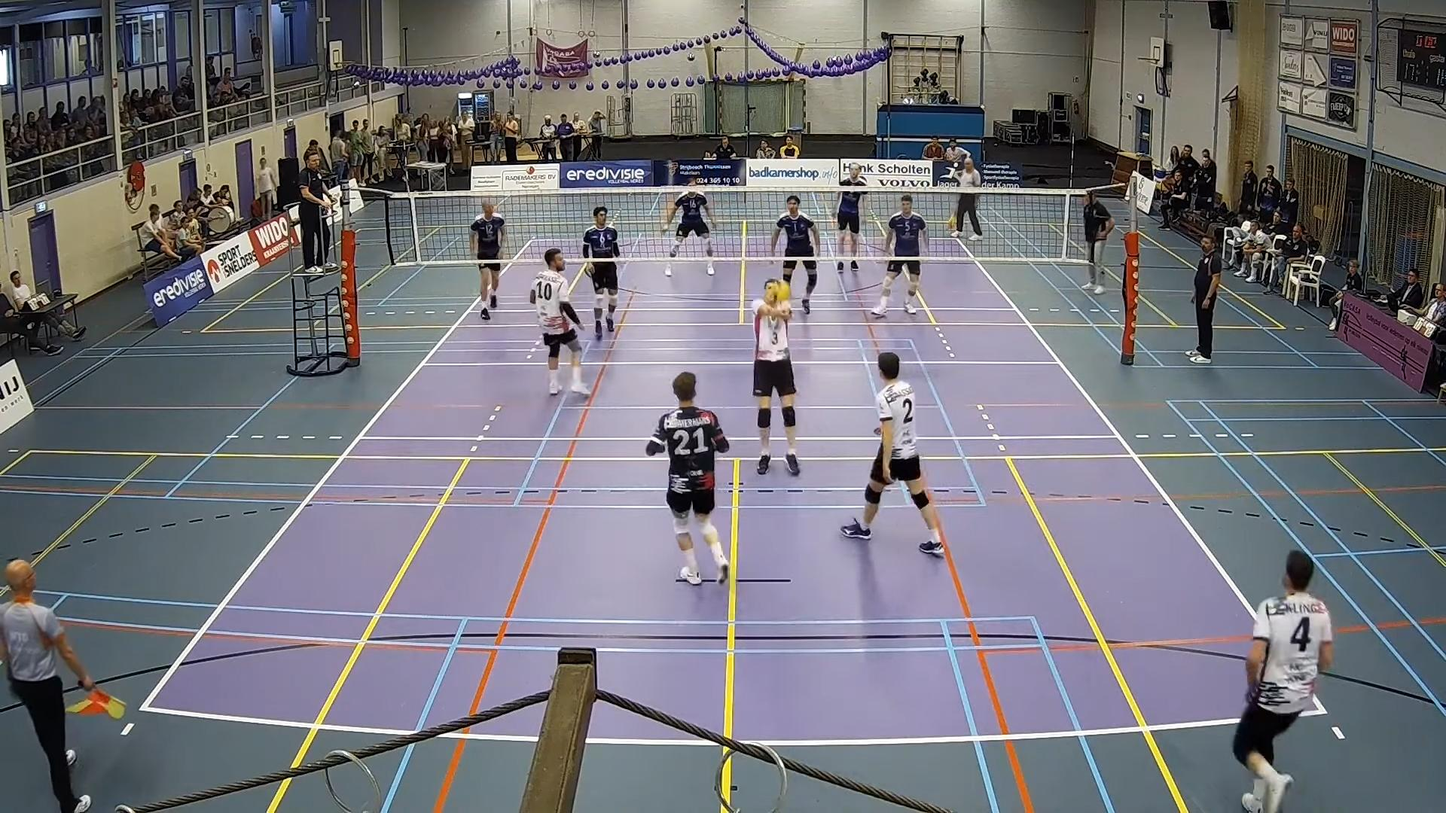Player: (1233, 550, 1333, 812), (840, 352, 944, 555), (645, 372, 728, 585), (529, 248, 588, 394), (871, 194, 926, 317), (770, 195, 820, 313), (583, 206, 620, 340), (664, 179, 714, 275), (470, 201, 505, 319), (836, 164, 866, 272)
Set: (749, 272, 804, 479)
